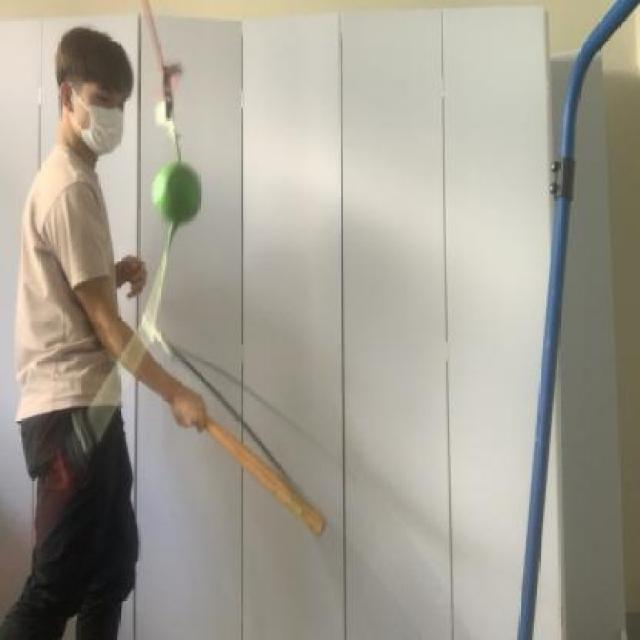baseball: (147, 144, 205, 238)
